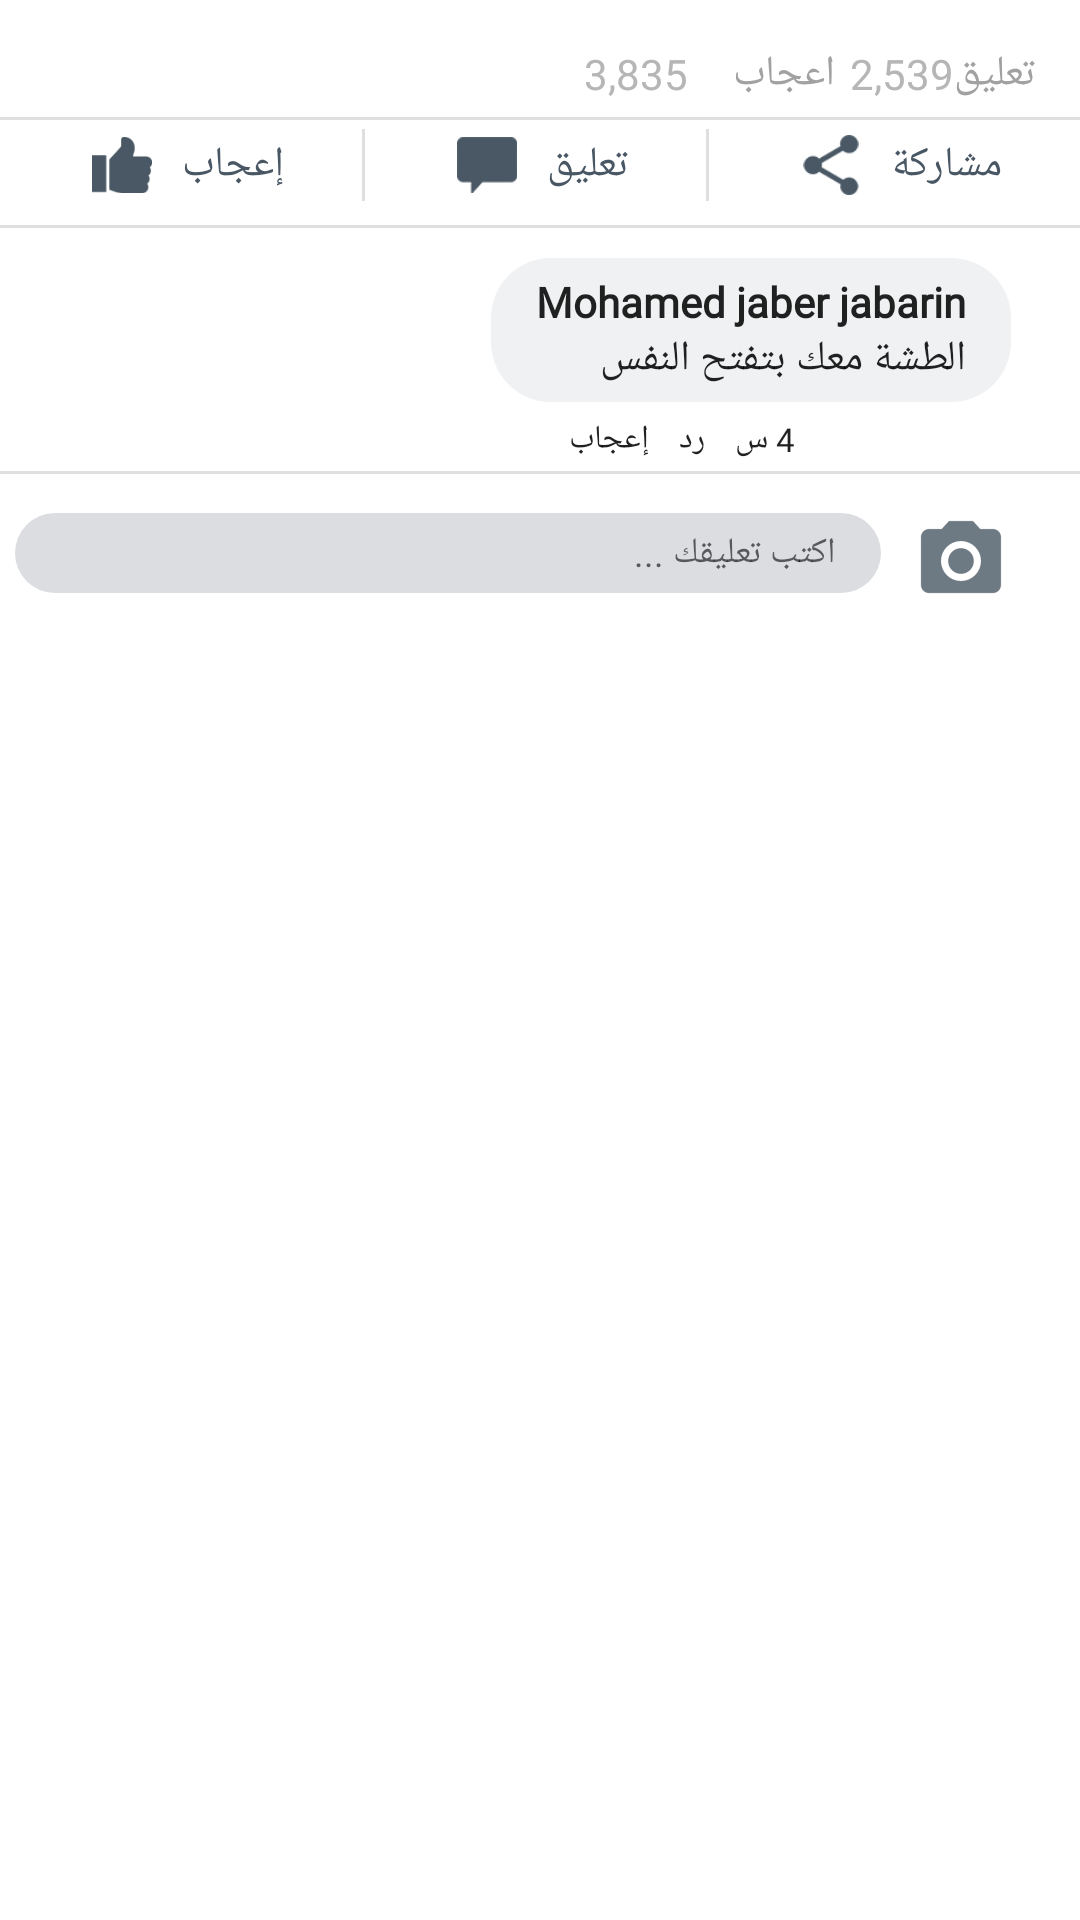

Icons on this 1080px×1920px Android screen, each with the point to tap as point (x, y):
like: point (122, 165)
share: point (831, 165)
